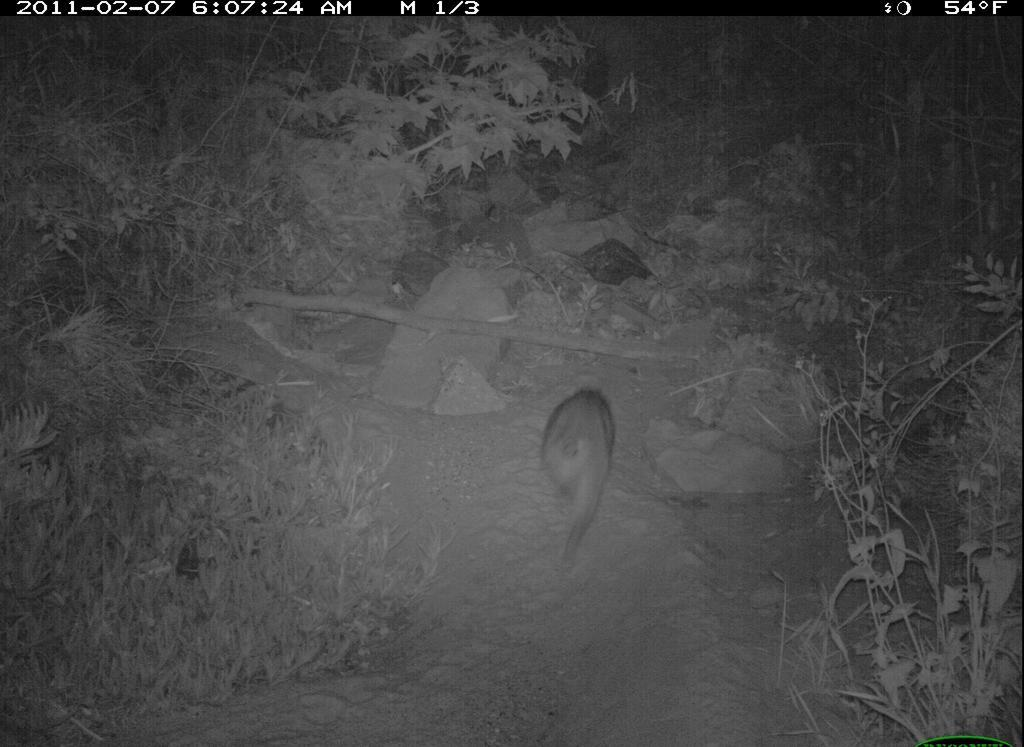raccoon: (529, 383, 629, 574)
